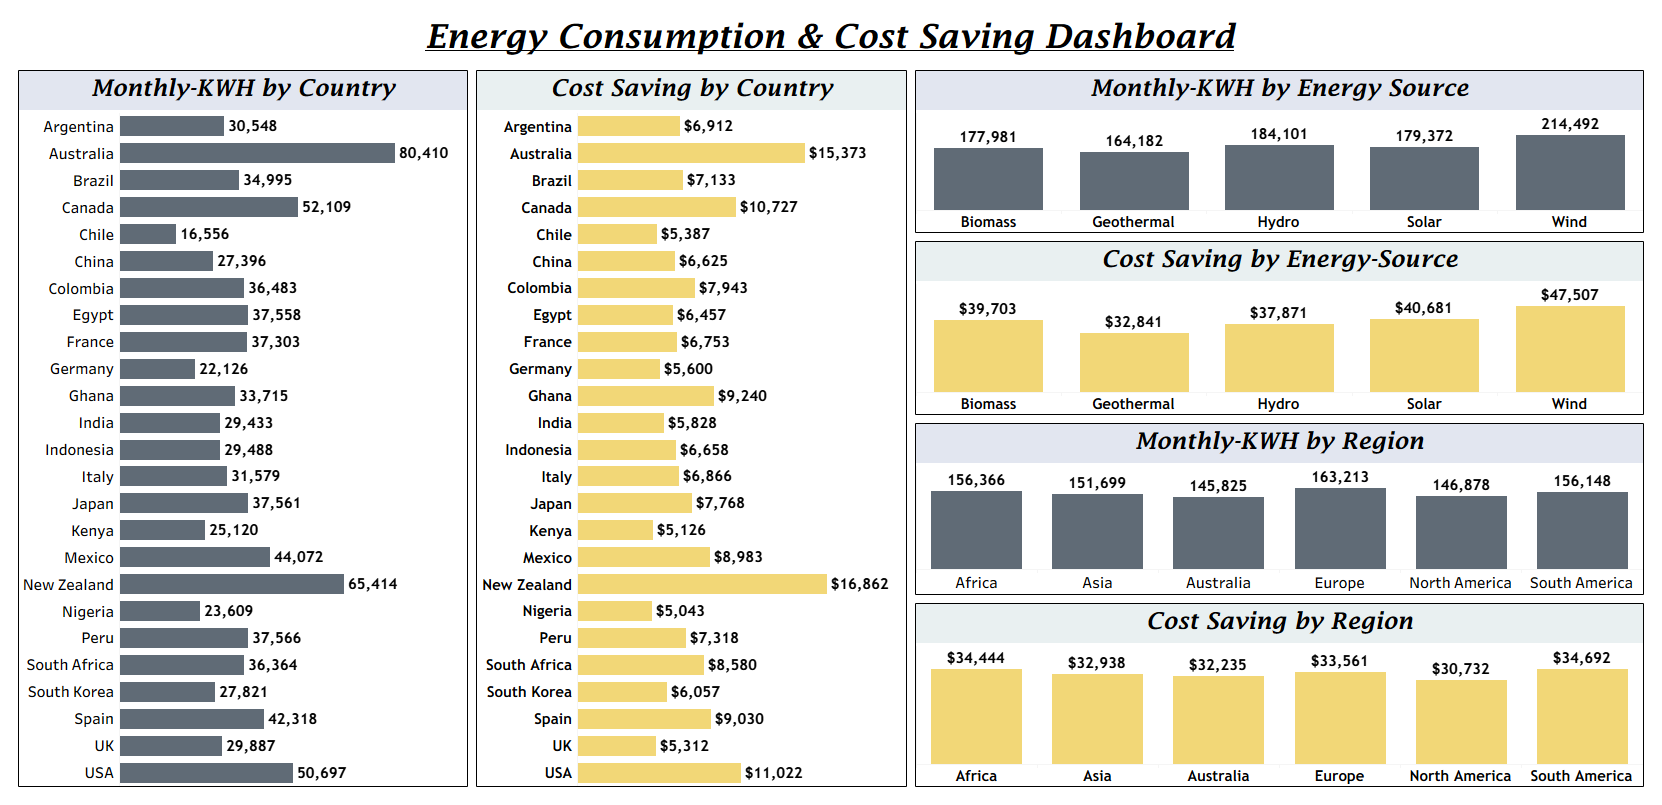

This screenshot's page, from the dashboard's own definition file:
{"tool":"tableau","page":{"name":"Energy Consumption Dashbord","canvas":[1650,800],"ordinal":0},"visuals":[{"type":"text","box":[8,8,1634,59]},{"type":"worksheet","title":"KWH by Country","mark":"Automatic","rows":["COUNTRY"],"cols":["MONTHLY_USAGE_KWH"],"box":[8,67,458,725]},{"type":"worksheet","title":"USD by Country","mark":"Automatic","rows":["COUNTRY"],"cols":["COST_SAVINGS_USD"],"box":[466,67,439,725]},{"type":"worksheet","title":"KWH by Energy Source","mark":"Automatic","rows":["MONTHLY_USAGE_KWH"],"cols":["ENERGY_SOURCE"],"box":[905,67,737,171]},{"type":"worksheet","title":"USD by Energy-Source","mark":"Automatic","rows":["COST_SAVINGS_USD"],"cols":["ENERGY_SOURCE"],"box":[905,238,737,182]},{"type":"worksheet","title":"KWH by Region","mark":"Automatic","rows":["MONTHLY_USAGE_KWH"],"cols":["REGION"],"box":[905,420,737,180]},{"type":"worksheet","title":"USD by Region","mark":"Automatic","rows":["COST_SAVINGS_USD"],"cols":["REGION"],"box":[905,600,737,192]}]}

Visuals, with their boxes in screenshot pixels (x1, y1, x2, y2), scaled from the page's 1650x800 canvas onto the 1662x805 screenshot:
text: [8, 8, 1654, 67]
"KWH by Country" worksheet: [8, 67, 469, 797]
"USD by Country" worksheet: [469, 67, 912, 797]
"KWH by Energy Source" worksheet: [912, 67, 1654, 239]
"USD by Energy-Source" worksheet: [912, 239, 1654, 423]
"KWH by Region" worksheet: [912, 423, 1654, 604]
"USD by Region" worksheet: [912, 604, 1654, 797]
